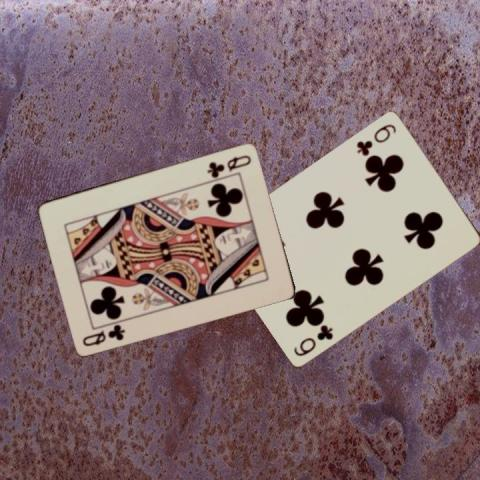6c: (353, 120, 398, 157), (291, 321, 335, 357)
Qc: (204, 151, 252, 178), (79, 321, 127, 347)
